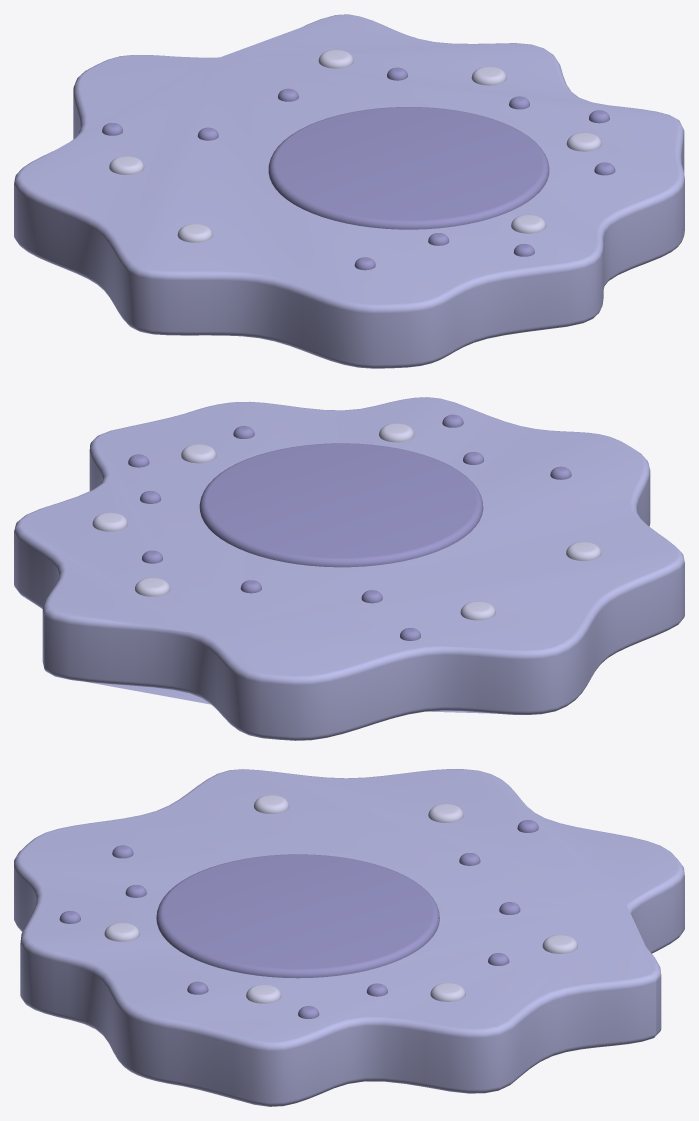
File: Makrofag.fbx
3 renders of one model, top to bottom at view 1: azimuth 30°, elevation 25°; view 2: azimuth 150°, elevation 25°; view 3: azimuth 270°, elevation 25°, orthographic.
Parts seen in each view (by area): view 1: Cylinder.085, Cylinder.086, Cylinder.089, Cylinder.090, Cylinder.091, Cylinder.092, Cylinder.087, Cylinder.088; view 2: Cylinder.085, Cylinder.086, Cylinder.088, Cylinder.092, Cylinder.090, Cylinder.089, Cylinder.091, Cylinder.087; view 3: Cylinder.085, Cylinder.086, Cylinder.091, Cylinder.092, Cylinder.090, Cylinder.089, Cylinder.087, Cylinder.088.
Boxes of the visible parts, x1,y1,x2,y2 form: Cylinder.085: [14, 14, 684, 368]; Cylinder.086: [268, 107, 549, 229]; Cylinder.089: [318, 49, 353, 68]; Cylinder.090: [471, 66, 506, 85]; Cylinder.091: [566, 132, 601, 151]; Cylinder.092: [511, 214, 546, 233]; Cylinder.087: [177, 224, 212, 242]; Cylinder.088: [109, 156, 144, 174]; Cylinder.085: [14, 397, 684, 740]; Cylinder.086: [199, 443, 483, 567]; Cylinder.088: [460, 601, 495, 620]; Cylinder.092: [379, 423, 414, 442]; Cylinder.090: [92, 512, 127, 531]; Cylinder.089: [135, 577, 170, 596]; Cylinder.091: [181, 444, 216, 463]; Cylinder.087: [566, 542, 601, 560]; Cylinder.085: [14, 769, 684, 1106]; Cylinder.086: [156, 854, 439, 978]; Cylinder.091: [246, 984, 281, 1003]; Cylinder.092: [104, 922, 139, 941]; Cylinder.090: [430, 983, 465, 1001]; Cylinder.089: [542, 935, 577, 953]; Cylinder.087: [253, 795, 289, 813]; Cylinder.088: [428, 804, 463, 822].
Size of the model in its own units: 186 by 24 by 189.
